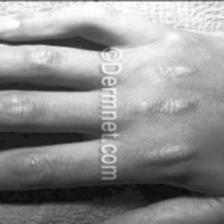Unclassified: (140, 91, 196, 121), (15, 46, 50, 71), (160, 57, 190, 76)
